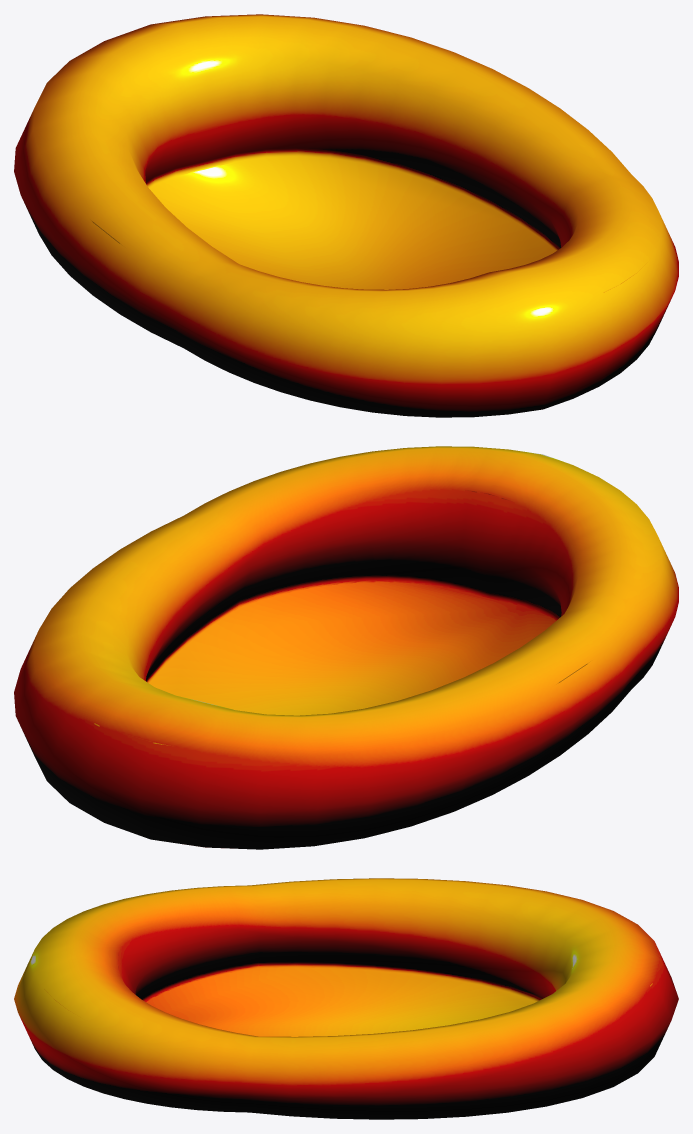
File: boat.glb
The picture shows the model from 3 angles, top to bottom: view 1: azimuth 30°, elevation 25°; view 2: azimuth 150°, elevation 25°; view 3: azimuth 270°, elevation 25°; orthographic projection. The views are drawn at different scales.
Visible parts, largest first — view 1: BézierCircle; view 2: BézierCircle; view 3: BézierCircle.
Boxes of the visible parts, x1=… form: BézierCircle: x1=14, y1=14, x2=678, y2=417; BézierCircle: x1=14, y1=446, x2=678, y2=849; BézierCircle: x1=14, y1=878, x2=678, y2=1119.
Bounding box in the file's own units: 2.57 × 0.6836 × 3.72.
1 material, 1 textured.
